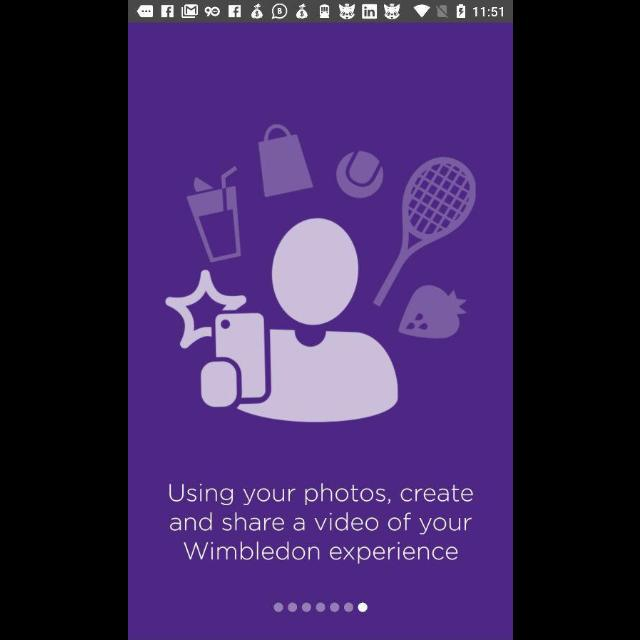image: (164, 124, 476, 422)
pageindicator: (272, 602, 368, 614)
text: (168, 482, 472, 564)
uppertaskbar: (128, 1, 512, 23)
